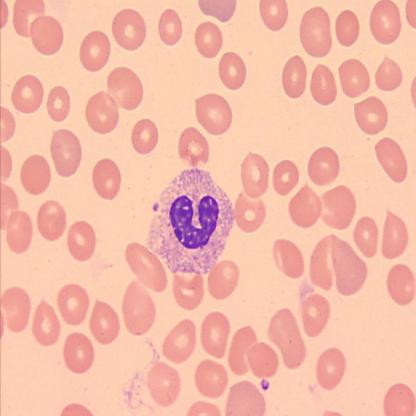Band Neutrophil: (144, 164, 236, 277)
